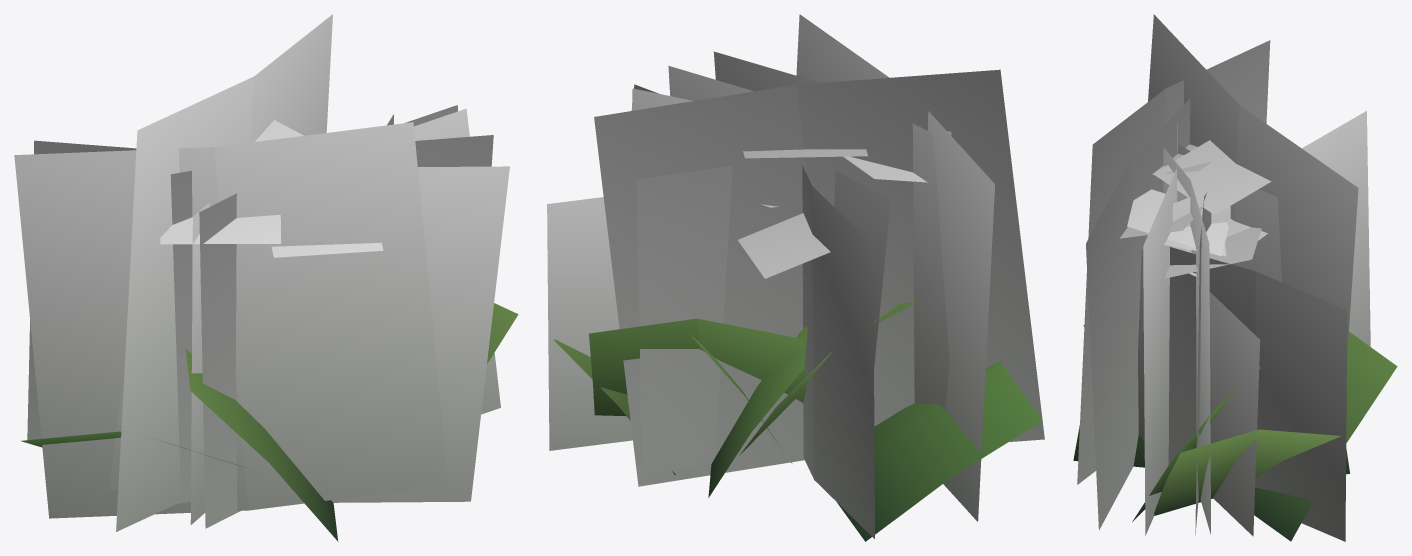
File: cornflower.glb
The picture shows the model from 3 angles, left to right: view 1: azimuth 30°, elevation 25°; view 2: azimuth 150°, elevation 25°; view 3: azimuth 270°, elevation 25°; orthographic projection. The views are drawn at different scales.
Visible parts, largest first — view 1: isl_cornflower; view 2: isl_cornflower; view 3: isl_cornflower.
Part boxes in pixels (x1=…): isl_cornflower: x1=14, y1=14, x2=518, y2=541; isl_cornflower: x1=547, y1=14, x2=1044, y2=541; isl_cornflower: x1=1073, y1=14, x2=1397, y2=541.
Size of the model in its own units: 0.6595 by 0.5632 by 0.429.
